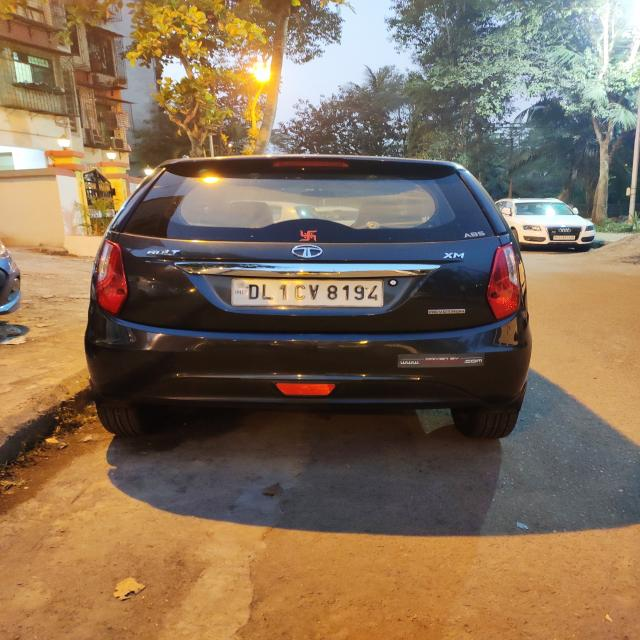Number-Plate: (239, 278, 380, 306)
